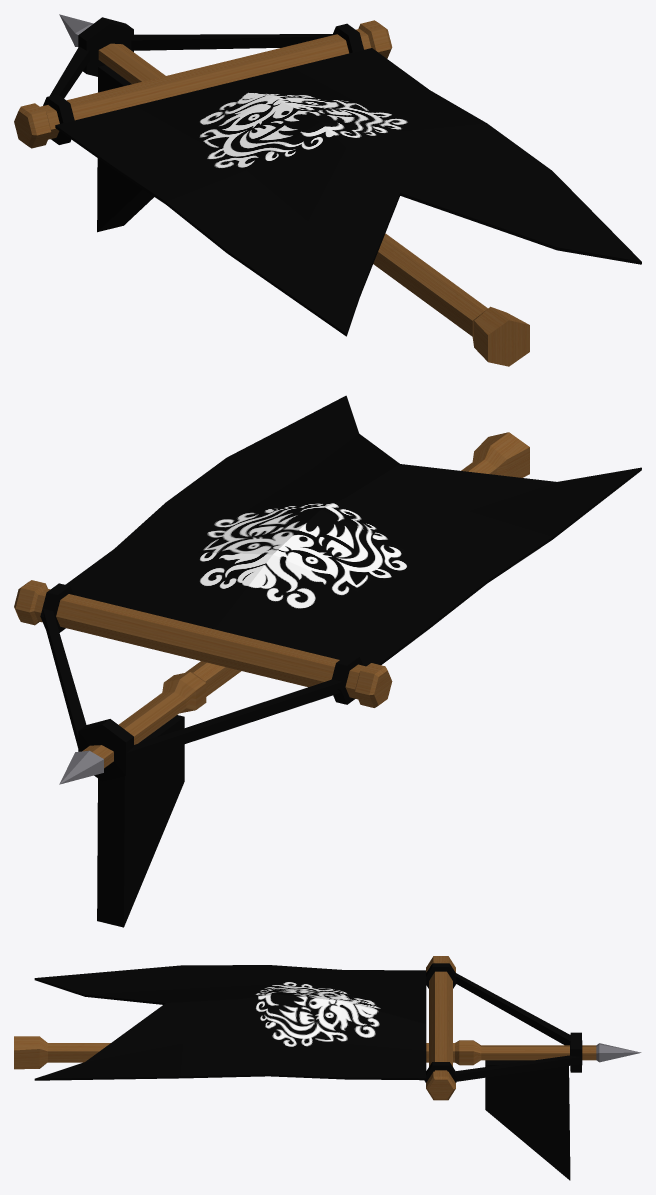
File: sail_b_3.fbx
3 views of the same model, one above another, from view 1: azimuth 30°, elevation 25°; view 2: azimuth 150°, elevation 25°; view 3: azimuth 270°, elevation 25° (orthographic). The views are drawn at different scales.
Visible parts, largest first — view 1: Cube.089; view 2: Cube.089; view 3: Cube.089.
Boxes of the visible parts, bbox=[...] form: Cube.089: bbox=[14, 14, 641, 366]; Cube.089: bbox=[14, 395, 641, 927]; Cube.089: bbox=[14, 956, 641, 1180].
Bounding box in the file's own units: 86.08 × 59.58 × 186.
